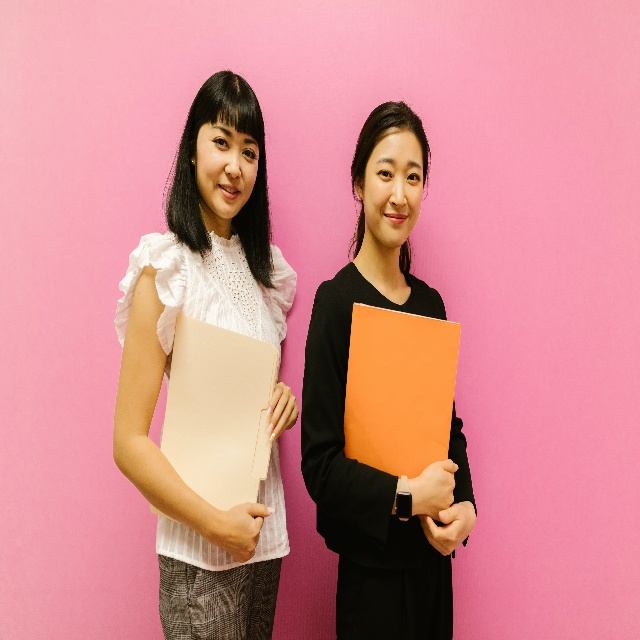Sin_guantes: (416, 499, 477, 557), (224, 499, 276, 563), (419, 456, 459, 523), (267, 379, 300, 441)
